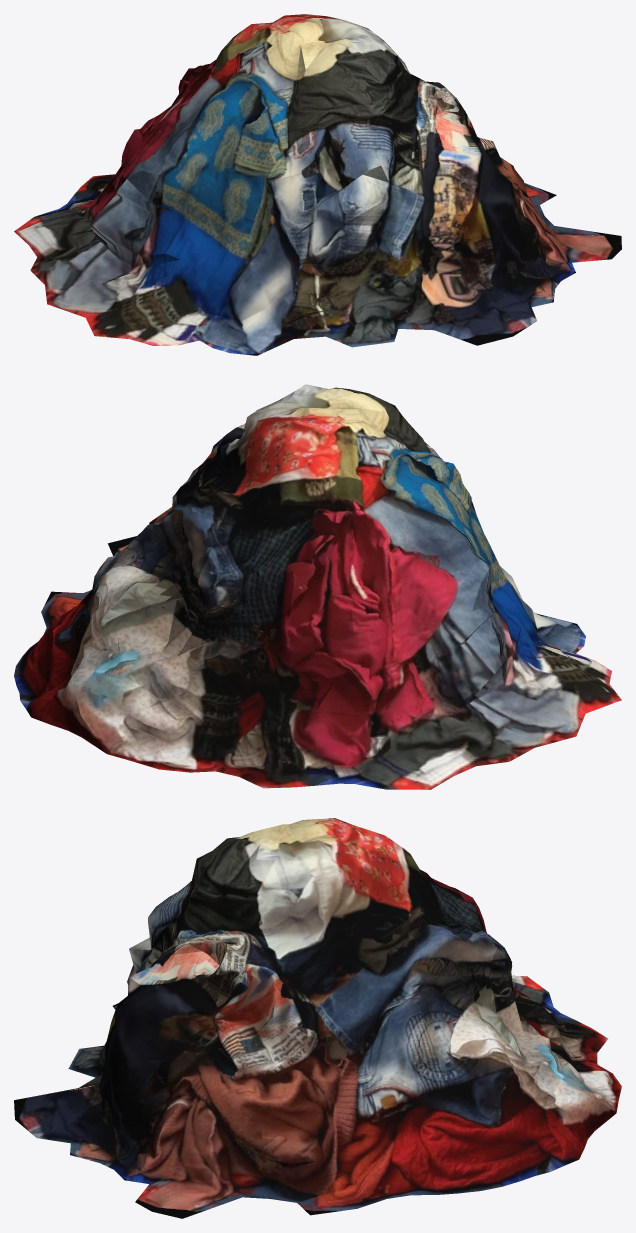
File: cloth_pile.glb
The picture shows the model from 3 angles, top to bottom: view 1: azimuth 30°, elevation 25°; view 2: azimuth 150°, elevation 25°; view 3: azimuth 270°, elevation 25°; orthographic projection. The views are drawn at different scales.
Visible parts, largest first — view 1: cloth_pile; view 2: cloth_pile; view 3: cloth_pile.
Boxes of the visible parts, x1,y1,x2,y2 form: cloth_pile: (14, 14, 621, 355); cloth_pile: (14, 384, 621, 789); cloth_pile: (14, 818, 621, 1218).
Bounding box in the file's own units: 0.24 × 0.1093 × 0.229.
1 material, 1 textured.
